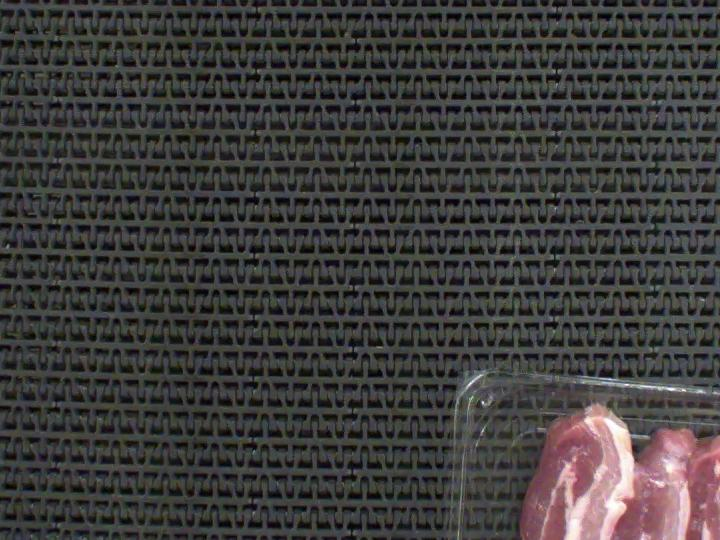packaging-error: (582, 379, 621, 413)
